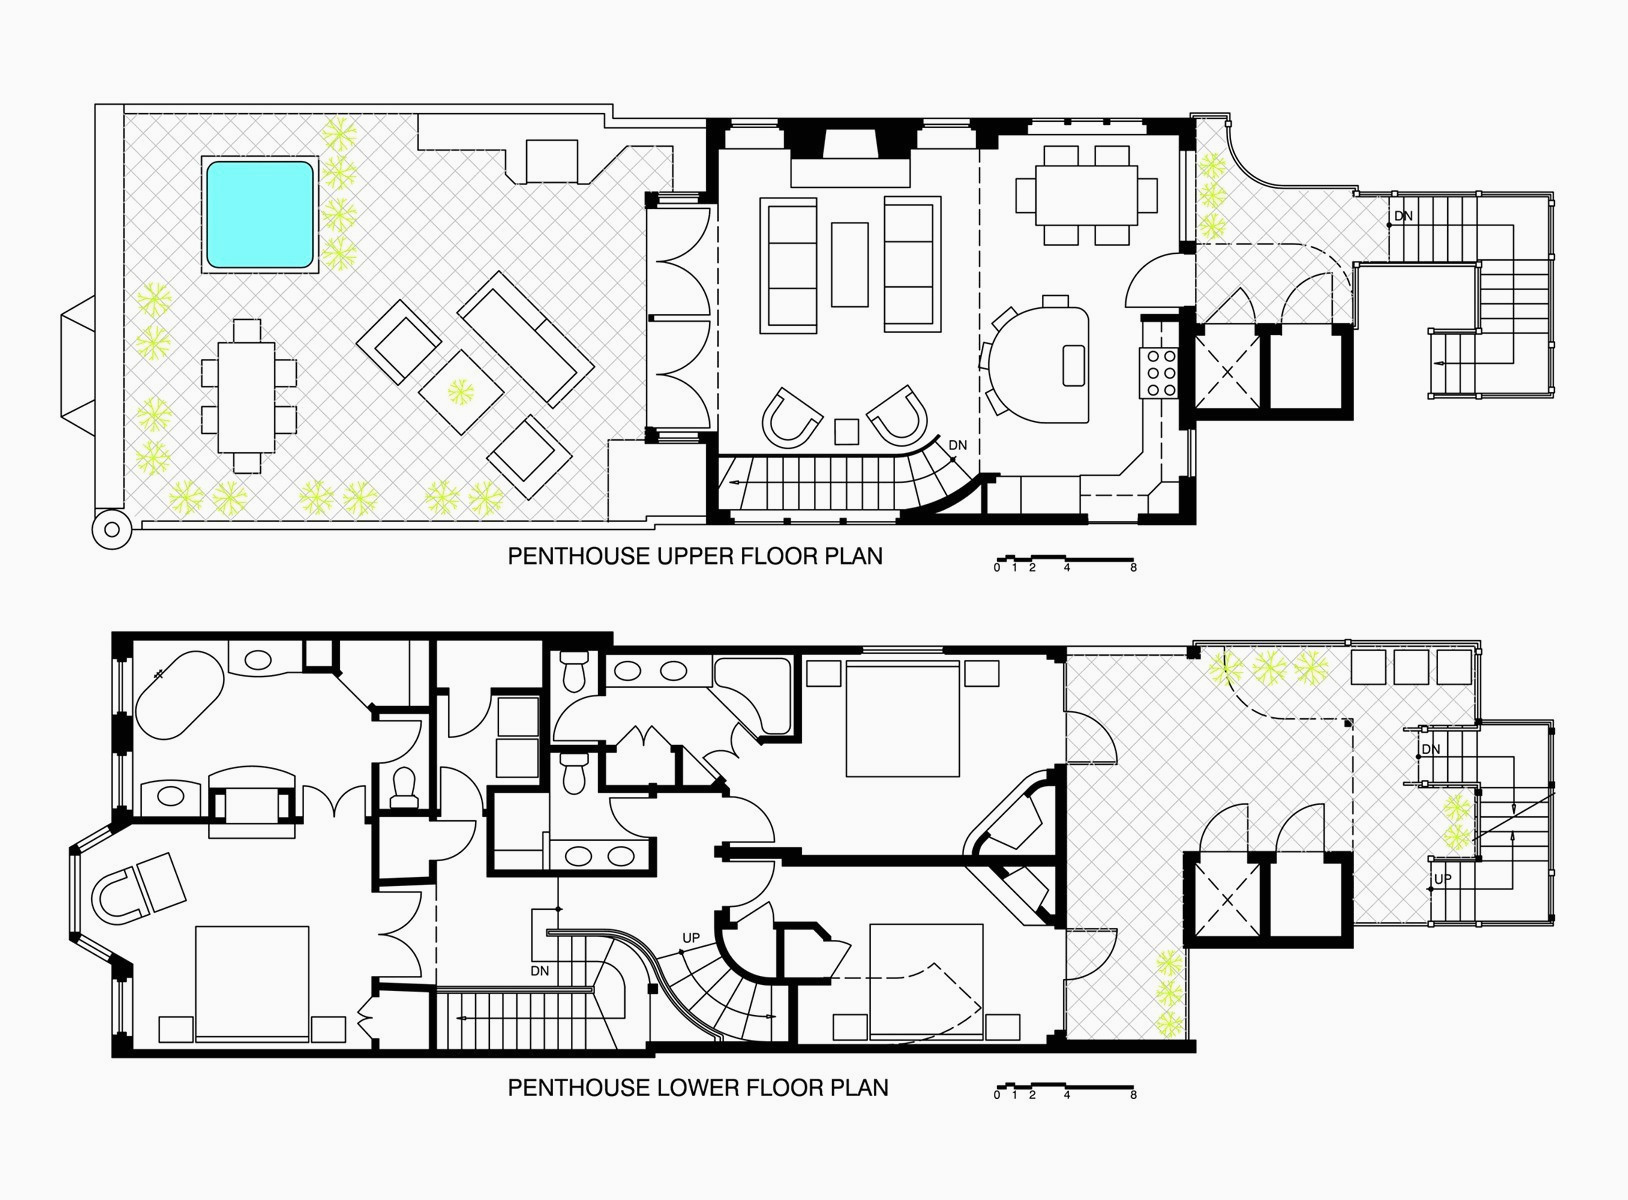door: (651, 204, 713, 321), (648, 317, 710, 429), (379, 889, 428, 980), (731, 781, 791, 838), (1112, 254, 1172, 311), (1073, 927, 1133, 984), (1072, 712, 1124, 771), (1280, 271, 1337, 321), (1279, 794, 1332, 845), (1200, 798, 1253, 845), (702, 719, 751, 768), (297, 783, 369, 816), (378, 717, 427, 764), (550, 695, 595, 744), (441, 702, 492, 742), (1205, 286, 1261, 320), (437, 765, 483, 805), (440, 818, 478, 865), (619, 713, 671, 747), (731, 859, 779, 895), (602, 795, 643, 835), (830, 938, 854, 976), (353, 998, 373, 1039), (747, 899, 779, 921)
